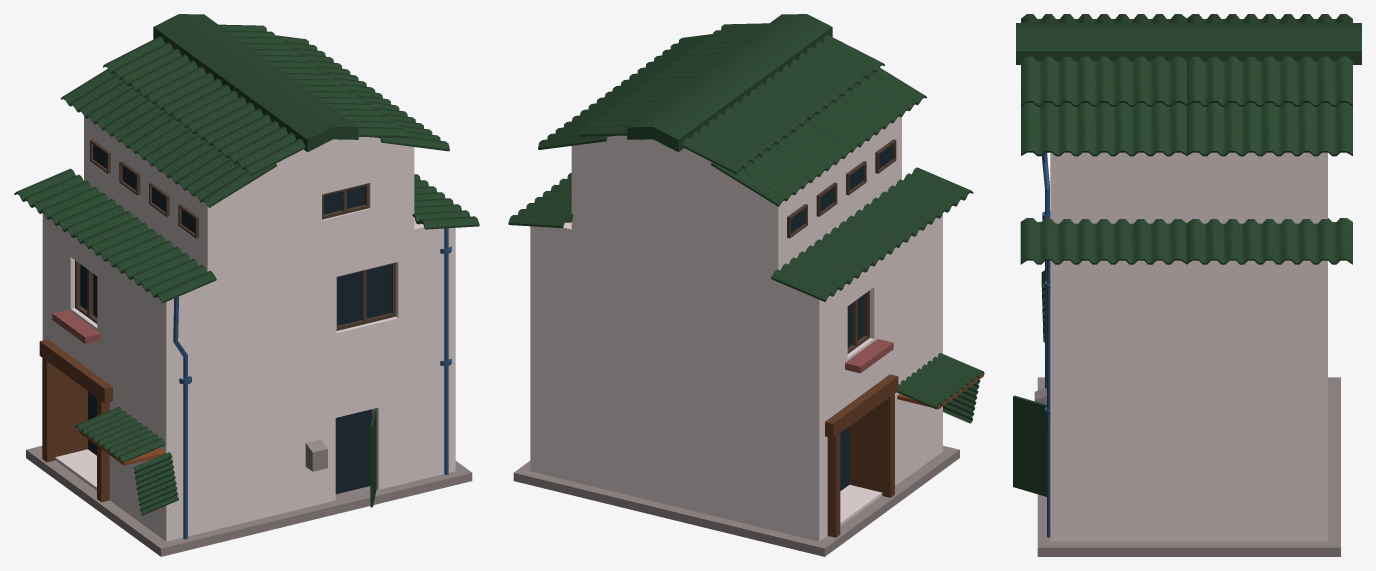
The model's file is CountryHouse03.fbx.
The picture shows the model from 3 angles, left to right: view 1: azimuth 30°, elevation 25°; view 2: azimuth 150°, elevation 25°; view 3: azimuth 270°, elevation 25°; orthographic projection. The views are drawn at different scales.
Visible parts, largest first — view 1: CountryHouse03; view 2: CountryHouse03; view 3: CountryHouse03.
Part boxes in pixels (bbox=[...]): CountryHouse03: bbox=[14, 14, 479, 556]; CountryHouse03: bbox=[508, 14, 984, 556]; CountryHouse03: bbox=[1013, 14, 1361, 556].
Size of the model in its own units: 90.09 by 70.53 by 99.54.
